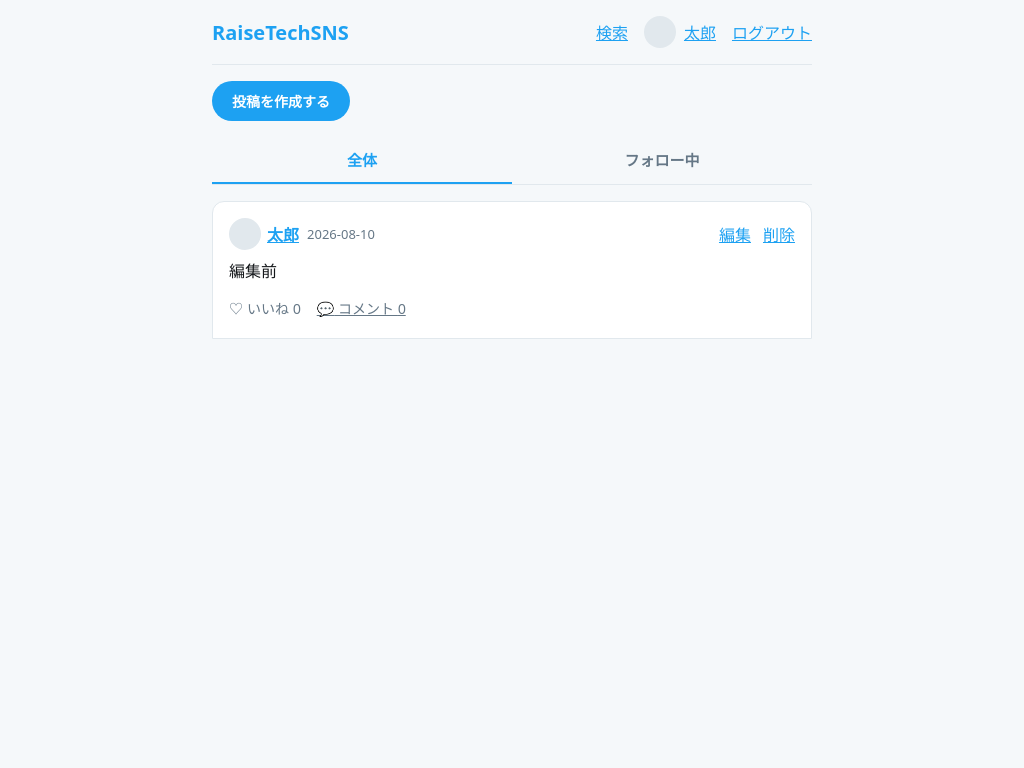
TimelineScreen › 編集モーダルの「キャンセル」で変更を破棄してモーダルが閉じる
Expected: the text "編集前" is shown, [229, 260, 277, 282]
Click the button "編集" at (735, 234), box [719, 222, 751, 246]
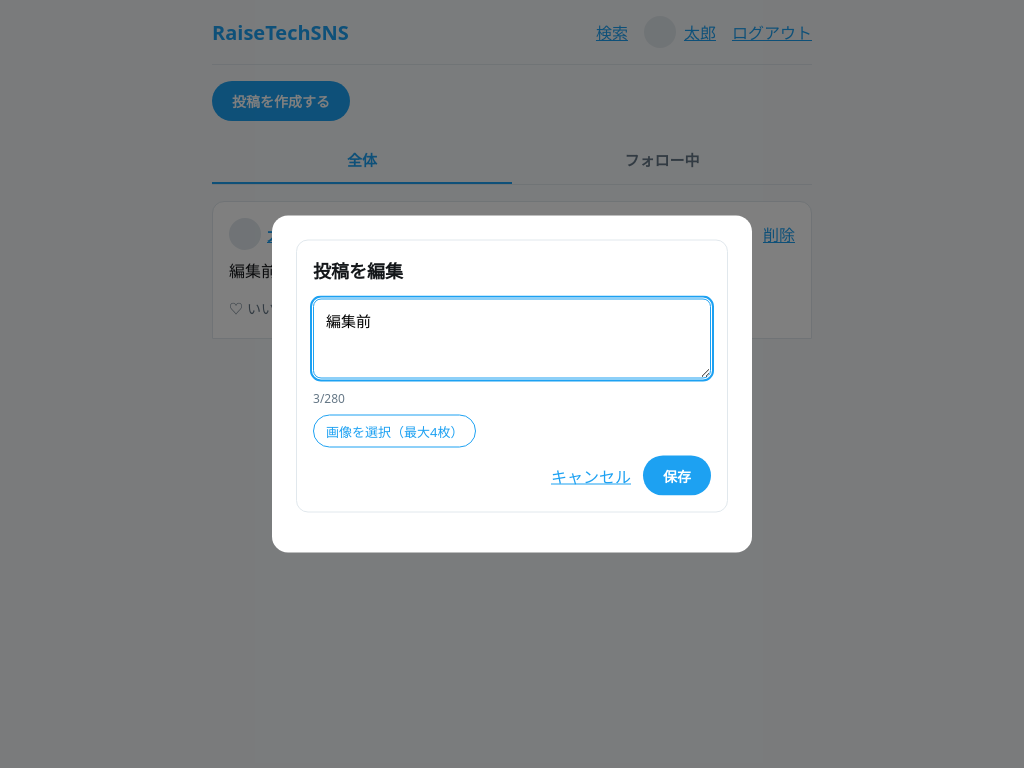
Replace the text in the text box named "投稿内容" with "編集したが破棄する" at (512, 338), box [313, 298, 711, 378]
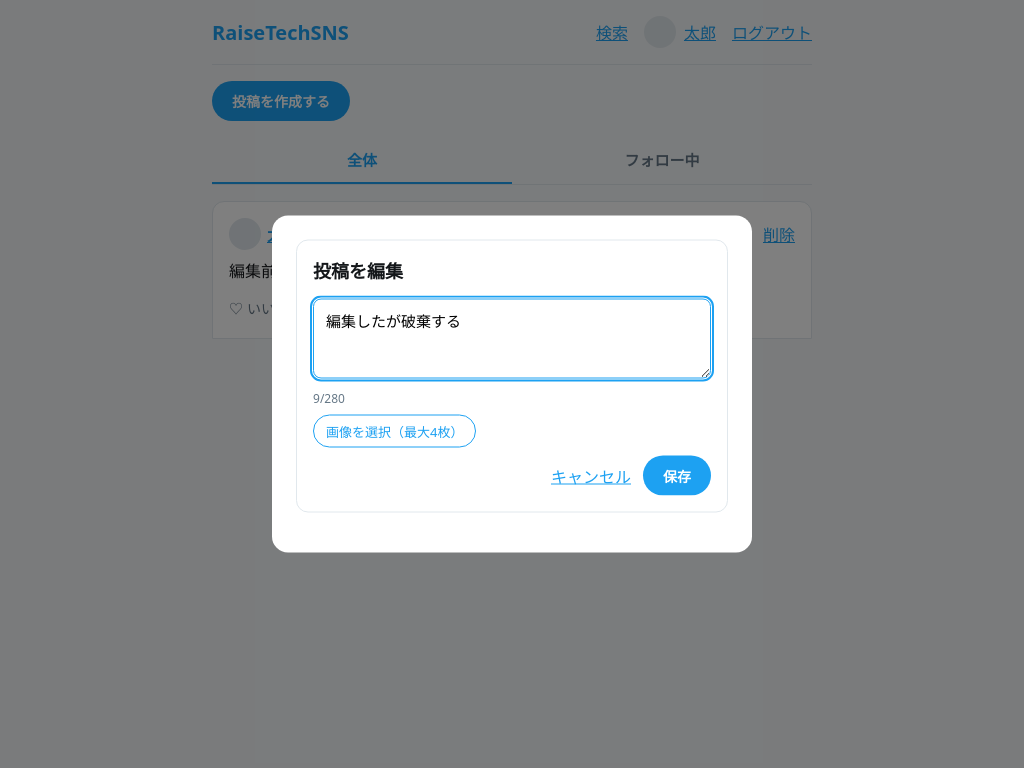
Click the button "キャンセル" at (591, 476), box [551, 464, 631, 488]
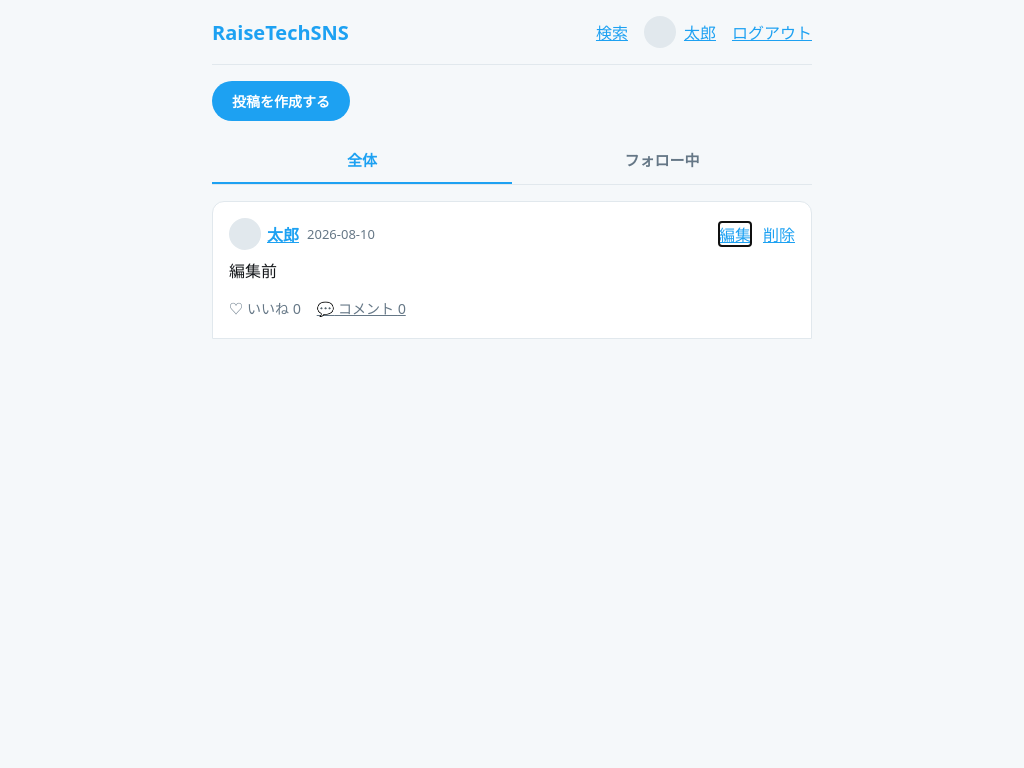
Expected: the text "編集前" is shown, [229, 260, 277, 282]
Now the dialog is gone
